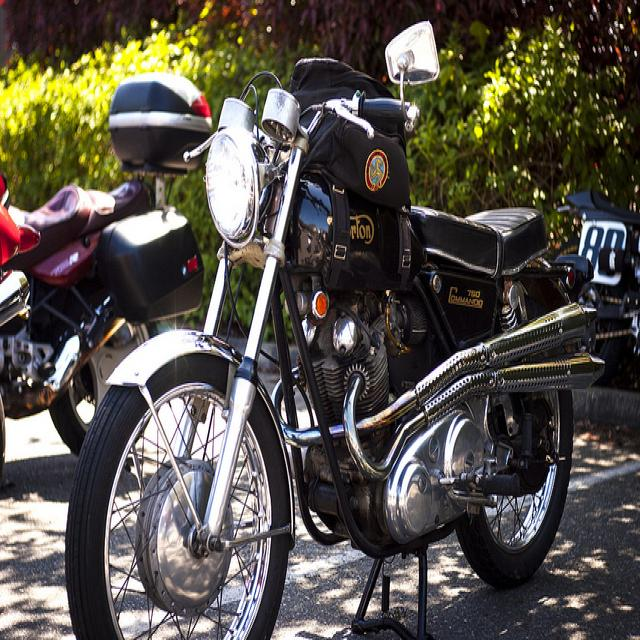motor: (62, 17, 608, 633), (1, 165, 212, 470), (555, 184, 640, 389)
